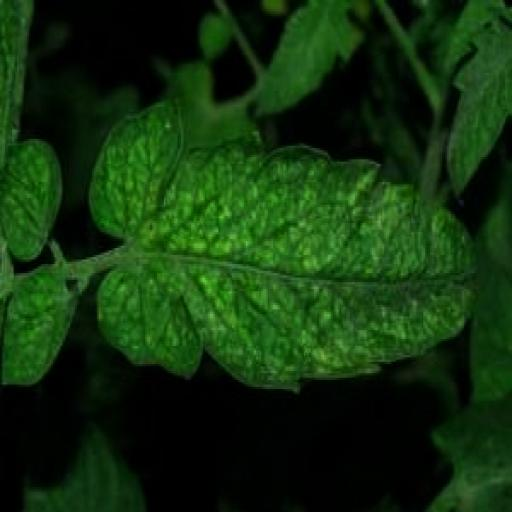disease_tomato: (85, 96, 479, 394), (0, 262, 75, 387), (0, 136, 65, 262)
